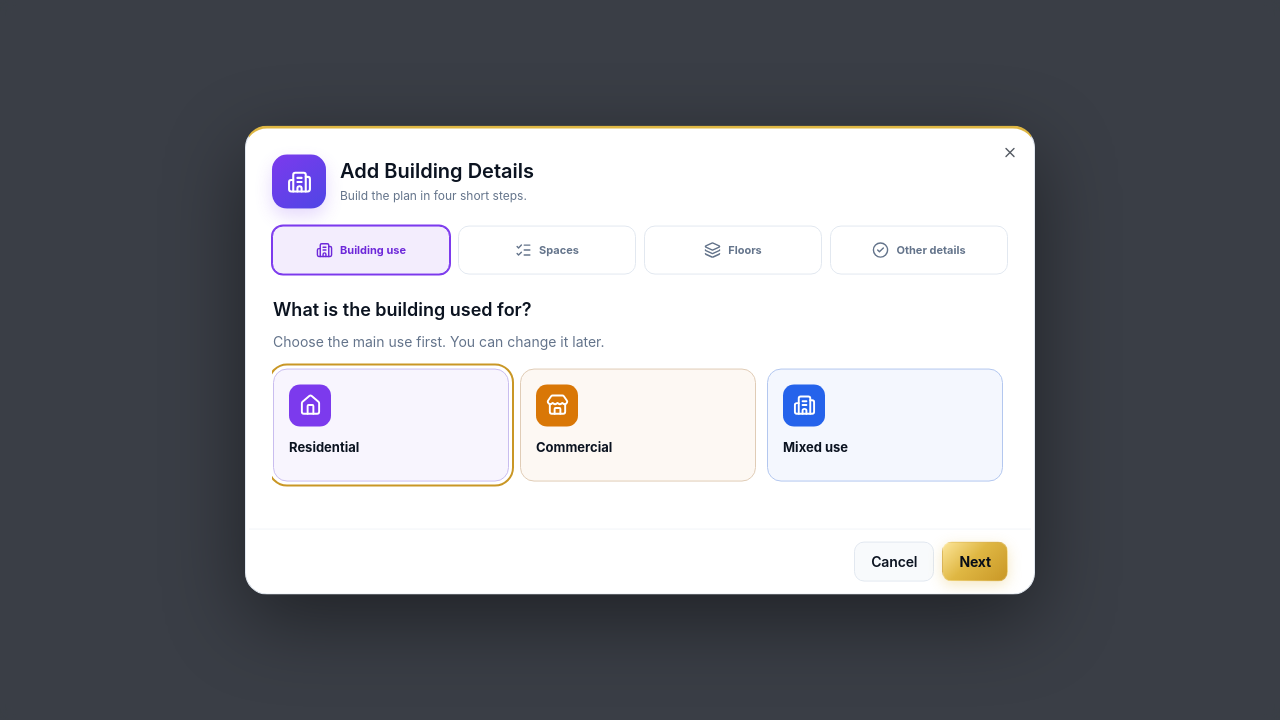
Test: BuildingDetailsDialog › uses the building-use cards to move into space selection
Click the button "Residential" at (391, 425), box [273,368,509,481]
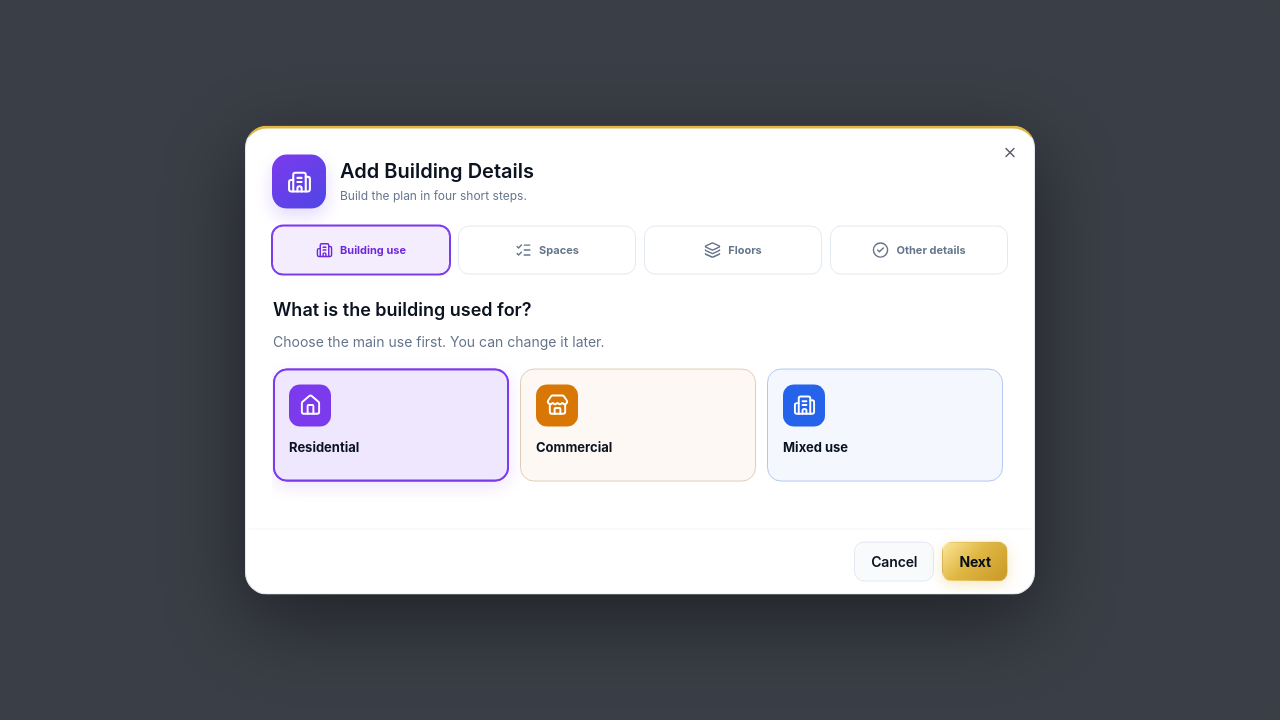
Expected: the button "Residential" is pressed, [273,368,509,481]
Click the button "Next" at (975, 561), box [942,541,1008,581]
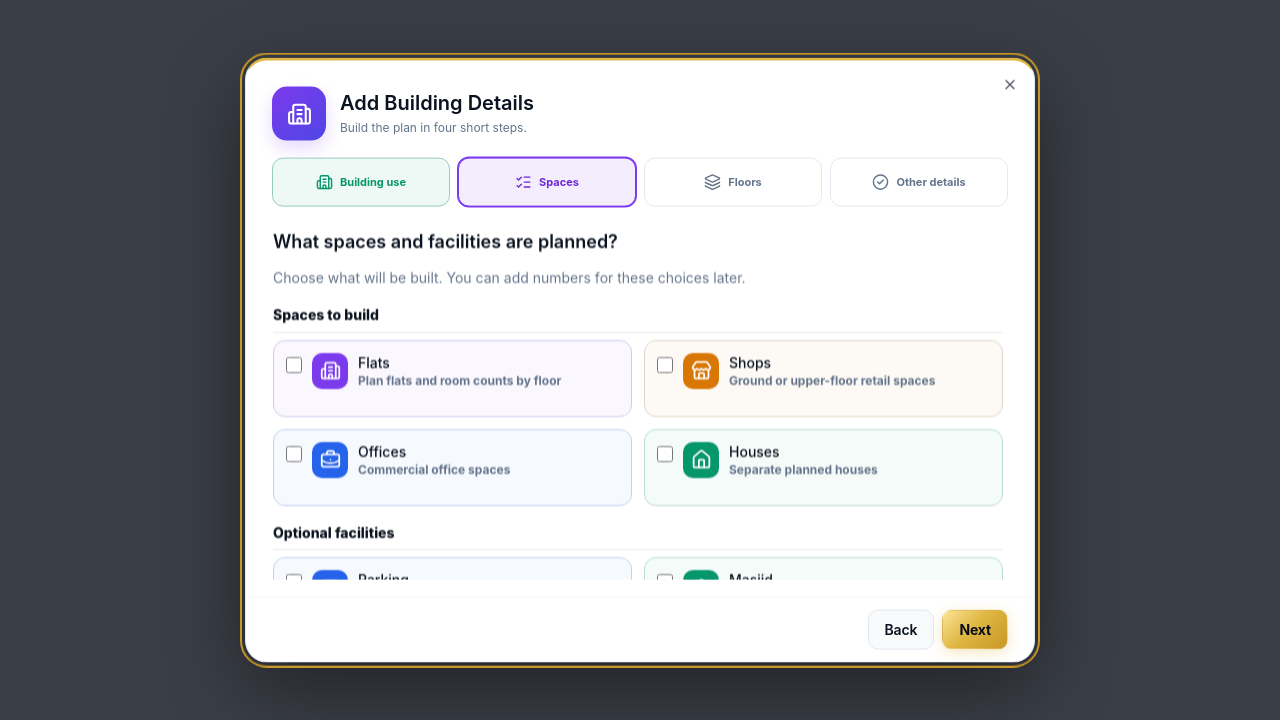
Expected: the heading "What spaces and facilities are planned?" is shown, [273,231,618,252]
